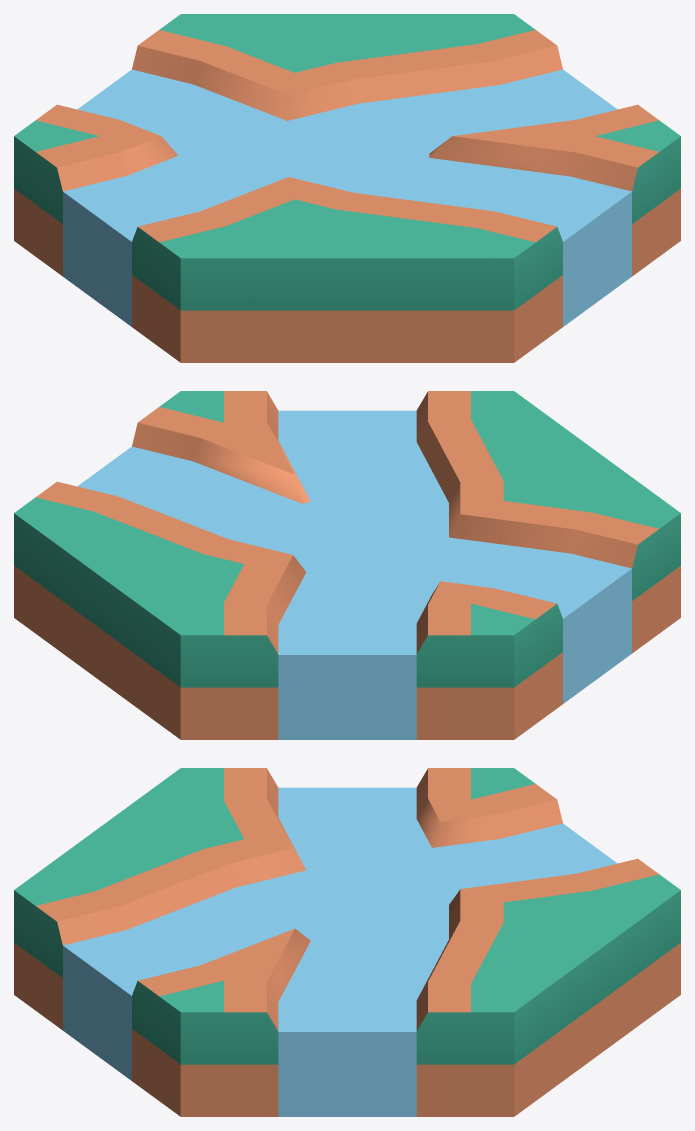
Rendered from river-intersectionE.gltf.
3 views of the same model, one above another, from view 1: azimuth 30°, elevation 25°; view 2: azimuth 150°, elevation 25°; view 3: azimuth 270°, elevation 25° (orthographic).
Parts seen in each view (by area): view 1: river_intersectionE; view 2: river_intersectionE; view 3: river_intersectionE.
Boxes of the visible parts, x1=… form: river_intersectionE: x1=14, y1=14, x2=680, y2=362; river_intersectionE: x1=14, y1=391, x2=680, y2=739; river_intersectionE: x1=14, y1=768, x2=680, y2=1116.
Size of the model in its own units: 1 by 0.2 by 1.15.
1 material, 1 textured.
